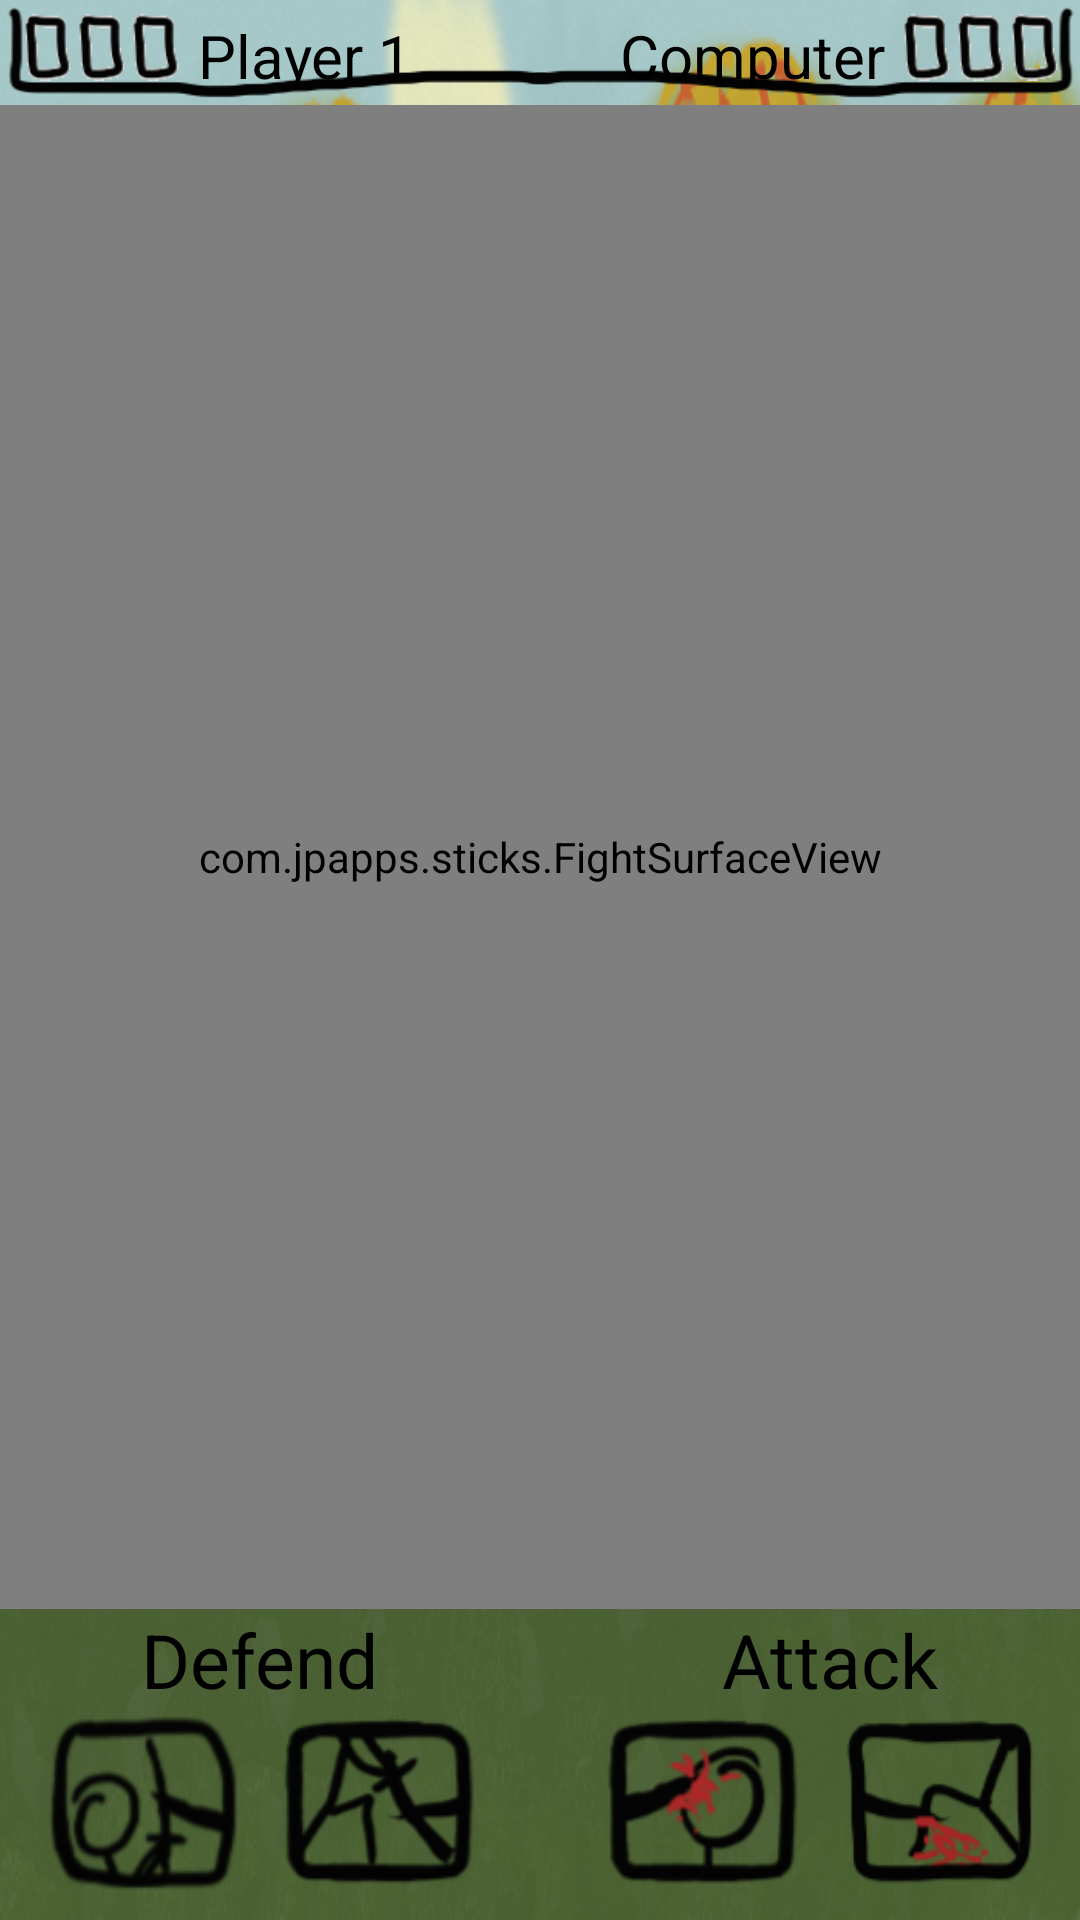

Where to tap for icons on this 1080×1920 app screen, as [x,y]:
ui healthbar unit: [48,43], [1035,43], [101,47], [155,47], [927,47], [981,50]
